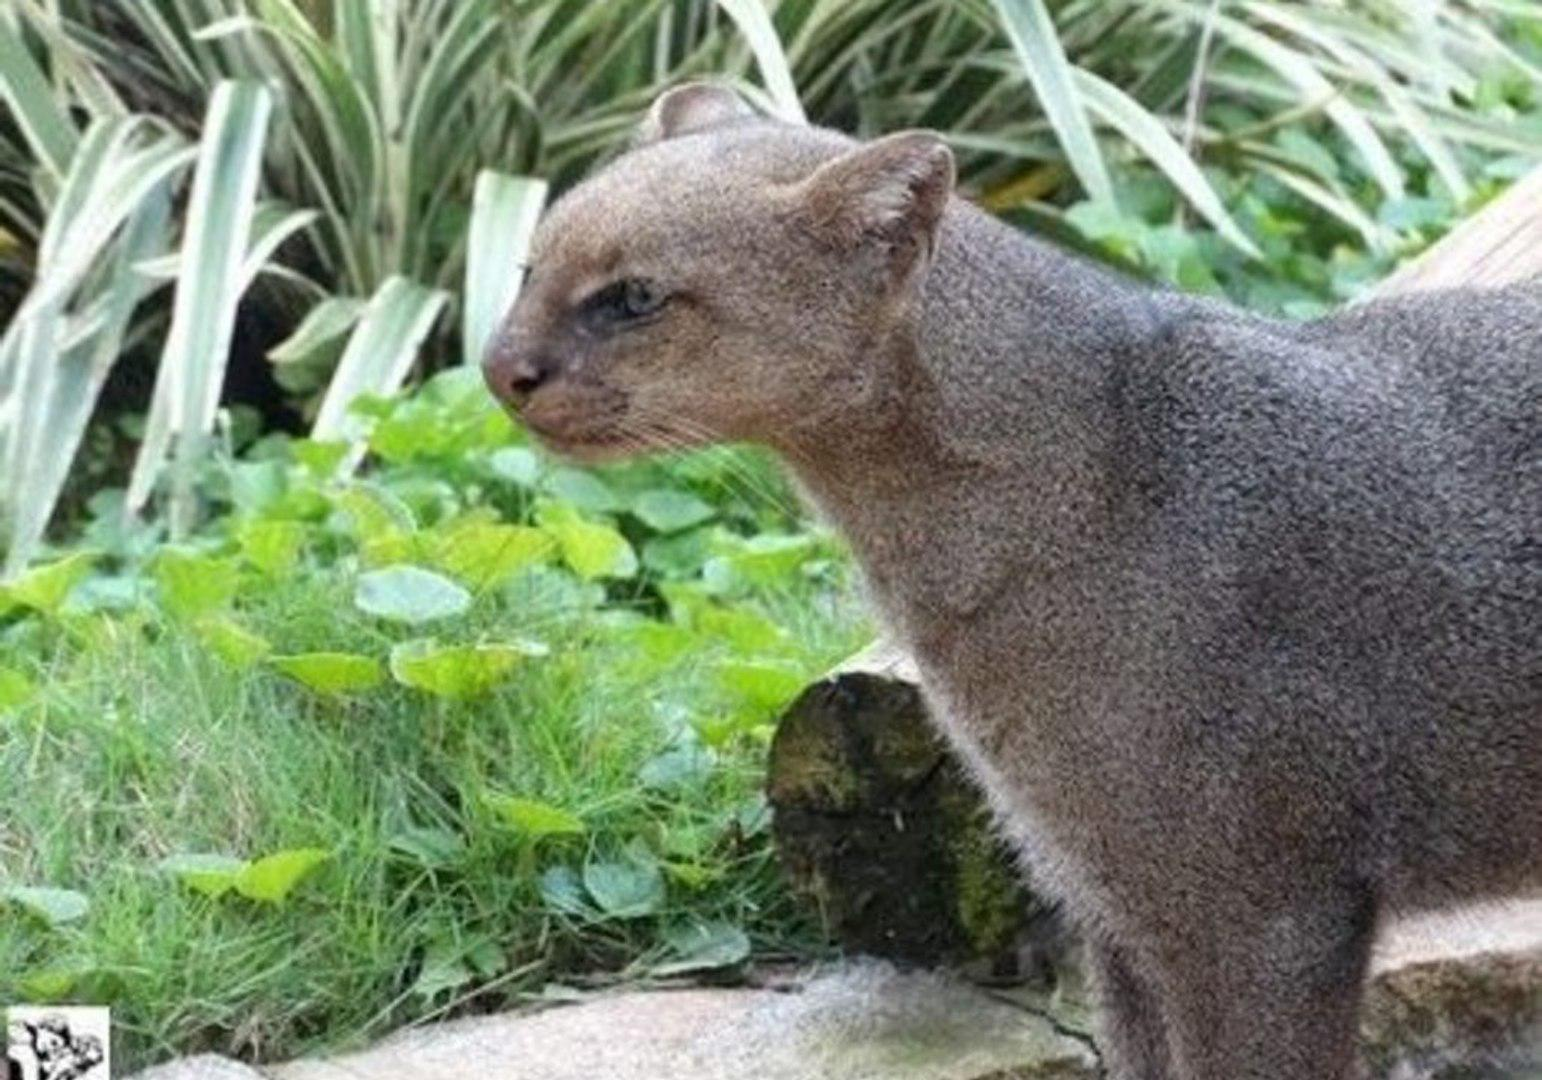Jaguarundi: (463, 54, 1509, 1052)
